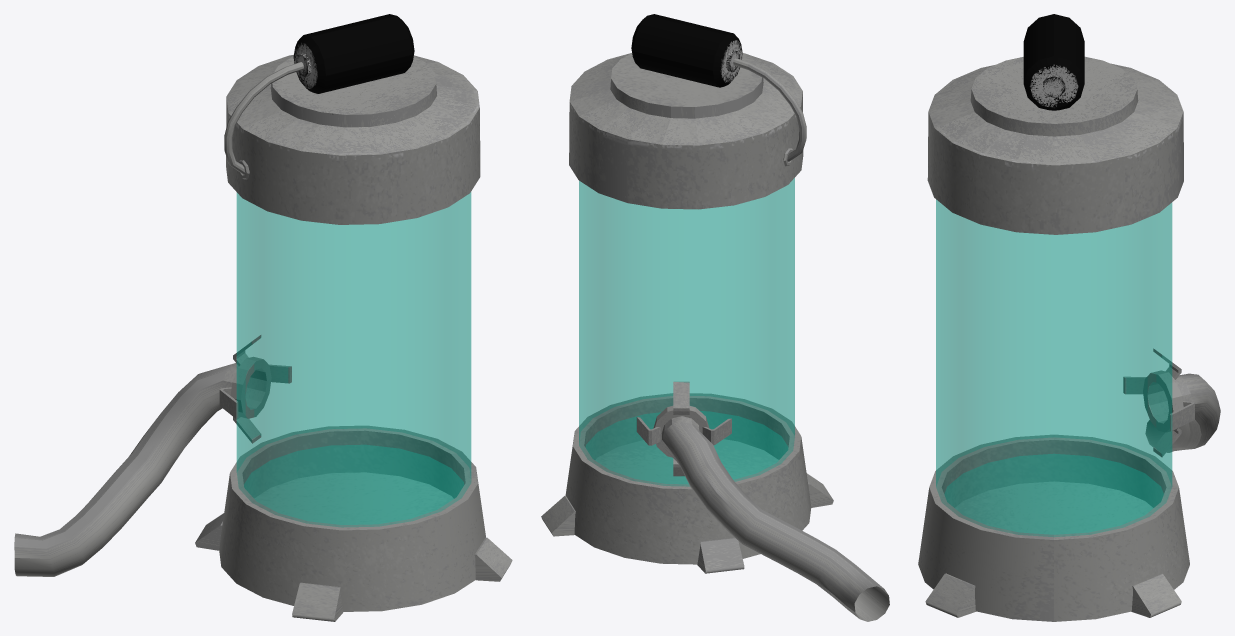
The model's file is cloning_tank.fbx.
3 views of the same model, side by side, from view 1: azimuth 30°, elevation 25°; view 2: azimuth 150°, elevation 25°; view 3: azimuth 270°, elevation 25° (orthographic). The views are drawn at different scales.
Parts seen in each view (by area): view 1: cloningTank; view 2: cloningTank; view 3: cloningTank.
Part boxes in pixels (x1,y1,x2,y2): cloningTank: (14, 14, 512, 621); cloningTank: (541, 14, 889, 621); cloningTank: (918, 14, 1220, 621).
Bounding box in the file's own units: 7.33 × 9.38 × 4.83.
